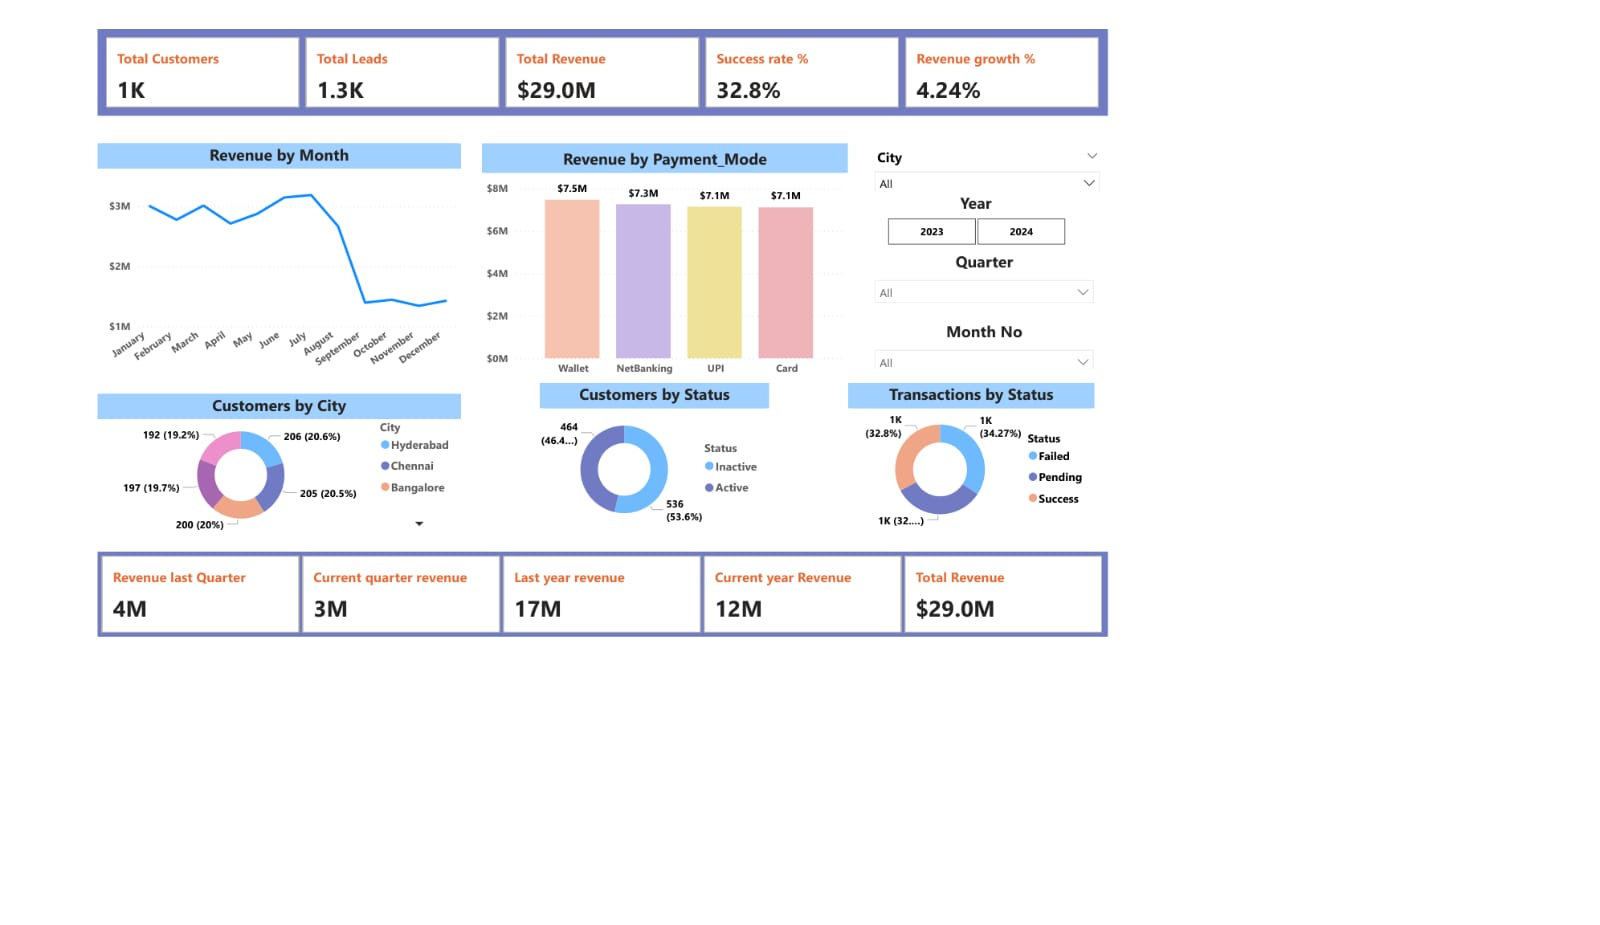

This screenshot's page, from the dashboard's own definition file:
{"tool":"powerbi","page":{"name":"Executive overview","canvas":[1280,720],"ordinal":0},"visuals":[{"type":"cardVisual","fields":{"Data":["Measure.Total Customers","Measure.Total Leads","Measure.Total Revenue","Measure.Success rate %","Measure.Revenue growth %"]},"box":[81.9,0,1197.8,103.2],"z":0},{"type":"cardVisual","fields":{"Data":["Measure.Revenue last Quarter","Measure.Current quarter revenue","Measure.Last year revenue","Measure.Current year Revenue","Measure.Total Revenue"]},"box":[81.9,619.4,1197.8,101.4],"z":1000},{"type":"lineChart","title":"Revenue by Month","fields":{"Y":["Measure.Total Revenue"],"Category":["Calendar table.Month"]},"box":[81.9,135.3,430.7,284.8],"z":2000},{"type":"clusteredColumnChart","title":"Revenue by Payment_Mode","fields":{"Category":["Transactions.Payment_Mode"],"Y":["Measure.Total Revenue"]},"box":[537.5,135.3,434.3,284.8],"z":3000},{"type":"donutChart","title":" Customers by Status","fields":{"Category":["Customers.Status"],"Y":["Measure.Total Customers"]},"box":[605.1,420,272.3,179.8],"z":4000},{"type":"donutChart","title":"Transactions by Status","fields":{"Category":["Transactions.Status"],"Y":["Measure.Total Transactions"]},"box":[971.8,420,291.9,179.8],"z":5000},{"type":"donutChart","title":" Customers by City","fields":{"Category":["Customers.City"],"Y":["Measure.Total Customers"]},"box":[81.9,432.5,430.7,167.3],"z":6000},{"type":"slicer","fields":{"Values":["Customers.City"]},"box":[992.6,135.6,287.1,57.7],"z":7000},{"type":"slicer","title":"Year","fields":{"Values":["Calendar table.Year"]},"box":[992.7,192.8,260,69.7],"z":8000},{"type":"slicer","title":"Quarter","fields":{"Values":["Calendar table.Quarter"]},"box":[992.6,262.6,279.9,69.3],"z":9000},{"type":"slicer","title":"Month No","fields":{"Values":["Calendar table.Month No"]},"box":[992.6,346.3,279.9,57.7],"z":10000}]}

Visuals, with their boxes in screenshot pixels (x1, y1, x2, y2), scaled from the page's 1280x720 canvas onto the 1600x925 screenshot:
cardVisual - Measure.Total Customers x Measure.Total Leads: <bbox>102, 0, 1599, 133</bbox>
cardVisual - Measure.Revenue last Quarter x Measure.Current quarter revenue: <bbox>102, 796, 1599, 924</bbox>
"Revenue by Month" lineChart: <bbox>102, 174, 641, 540</bbox>
"Revenue by Payment_Mode" clusteredColumnChart: <bbox>672, 174, 1215, 540</bbox>
" Customers by Status" donutChart: <bbox>756, 540, 1097, 771</bbox>
"Transactions by Status" donutChart: <bbox>1215, 540, 1580, 771</bbox>
" Customers by City" donutChart: <bbox>102, 556, 641, 771</bbox>
slicer - Customers.City: <bbox>1241, 174, 1599, 248</bbox>
"Year" slicer: <bbox>1241, 248, 1566, 337</bbox>
"Quarter" slicer: <bbox>1241, 337, 1591, 426</bbox>
"Month No" slicer: <bbox>1241, 445, 1591, 519</bbox>
